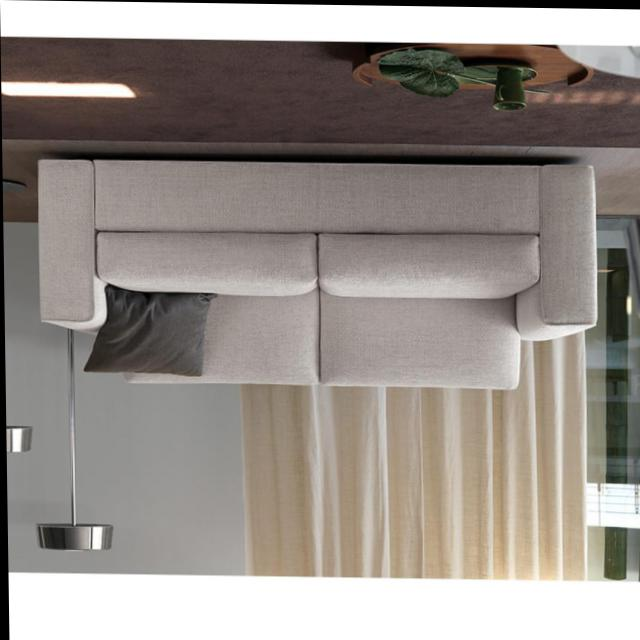Sofa: (35, 155, 601, 390)
